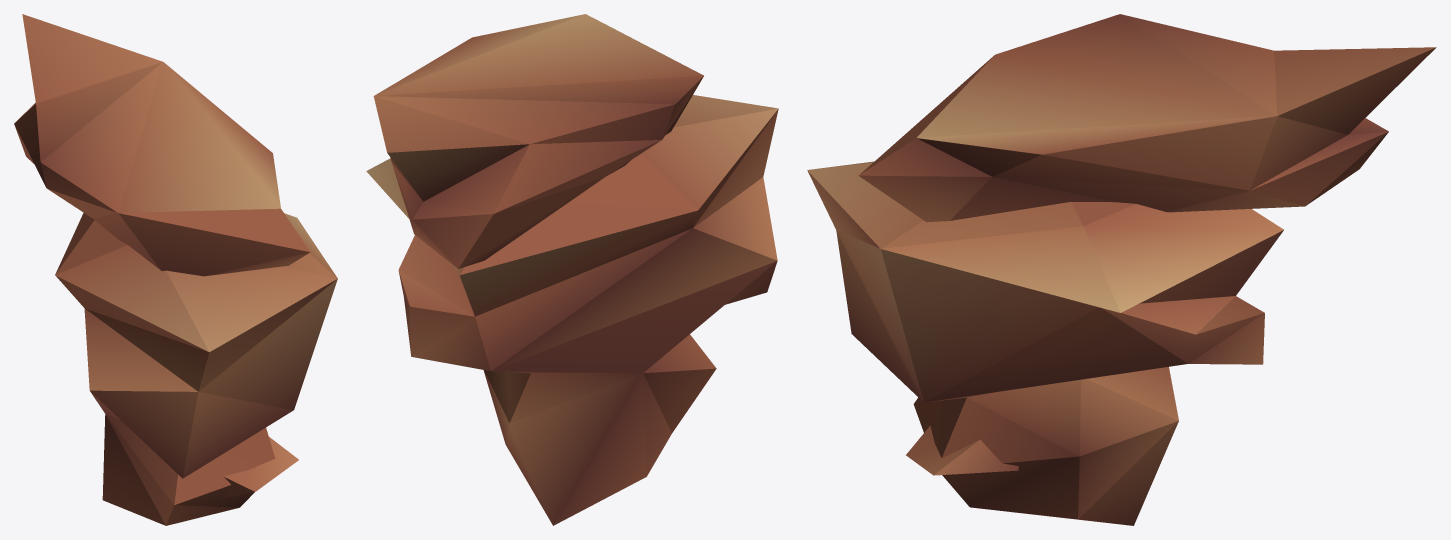
File: Mixed_Rock_07.fbx
3 renders of one model, left to right at view 1: azimuth 30°, elevation 25°; view 2: azimuth 150°, elevation 25°; view 3: azimuth 270°, elevation 25°, orthographic. The views are drawn at different scales.
Visible parts, largest first — view 1: Rock_07.001; view 2: Rock_07.001; view 3: Rock_07.001.
Part boxes in pixels (box(x1,y1,x2,y2)): Rock_07.001: box(14, 14, 337, 525); Rock_07.001: box(366, 14, 778, 525); Rock_07.001: box(807, 14, 1436, 525).
Bounding box in the file's own units: 433 × 597 × 699.
